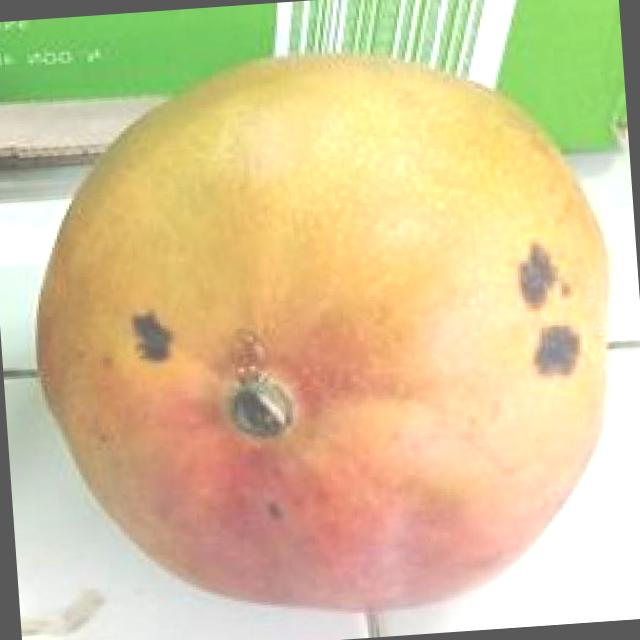Mango: (20, 35, 637, 633)
